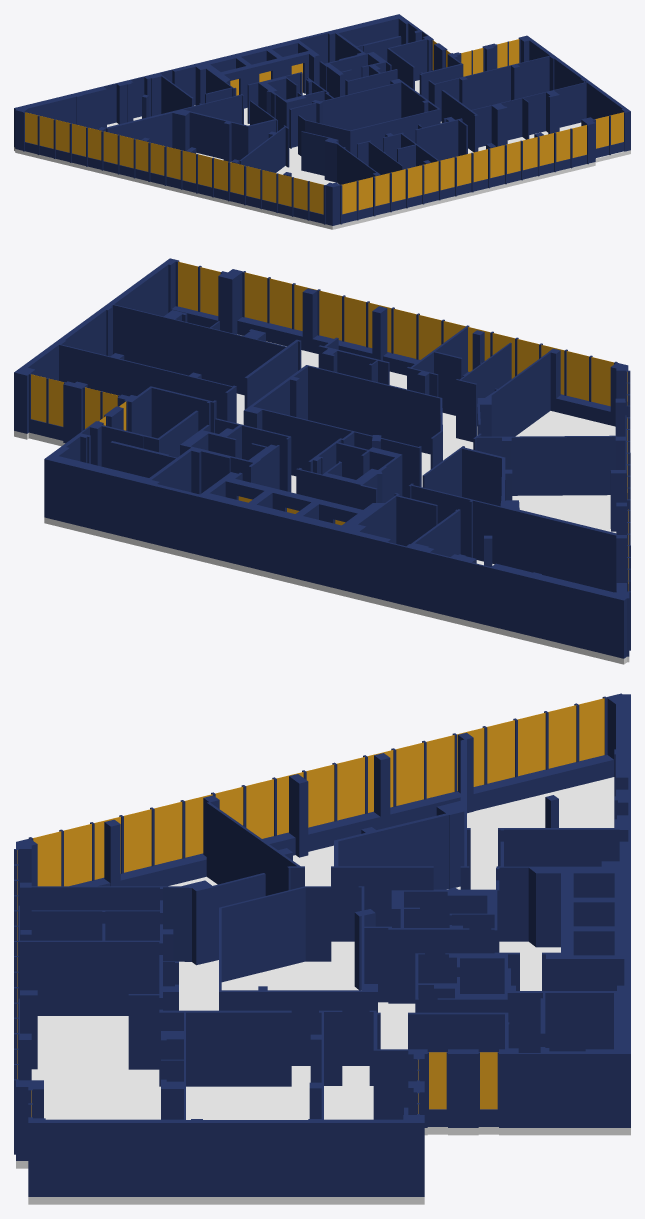
File: 1855B 6th Floor.fbx
The picture shows the model from 3 angles, top to bottom: view 1: azimuth 30°, elevation 25°; view 2: azimuth 150°, elevation 25°; view 3: azimuth 270°, elevation 25°; orthographic projection. The views are drawn at different scales.
Parts seen in each view (by area): view 1: Walls, Interior Member, Plan; view 2: Walls, Interior Member, Plan; view 3: Walls, Plan, Interior Member.
Boxes of the visible parts, x1,y1,x2,y2 form: Walls: (14,14,630,225); Interior Member: (25,39,623,214); Plan: (14,80,630,229); Walls: (14,258,630,658); Interior Member: (31,261,628,590); Plan: (14,334,629,664); Walls: (14,693,630,1196); Plan: (16,777,630,1204); Interior Member: (17,698,604,1116).
Bounding box in the file's own units: 1492 × 906 × 132.
